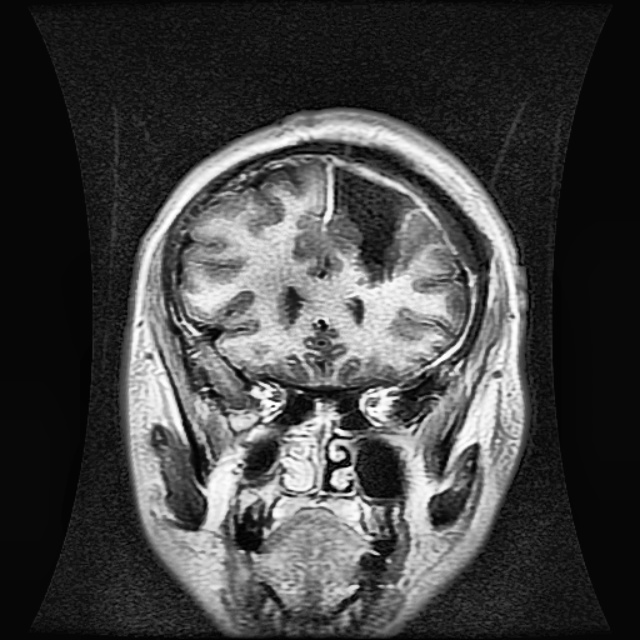Meningioma: (325, 165, 414, 280)
